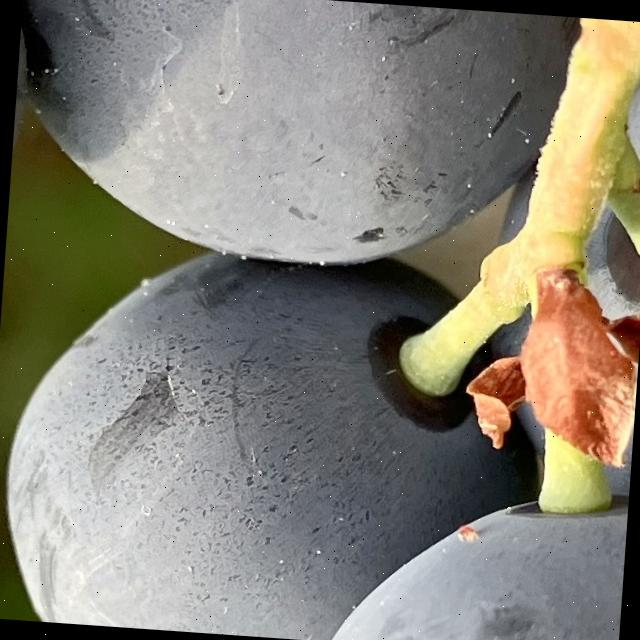Blueberries: (4, 0, 602, 290)
